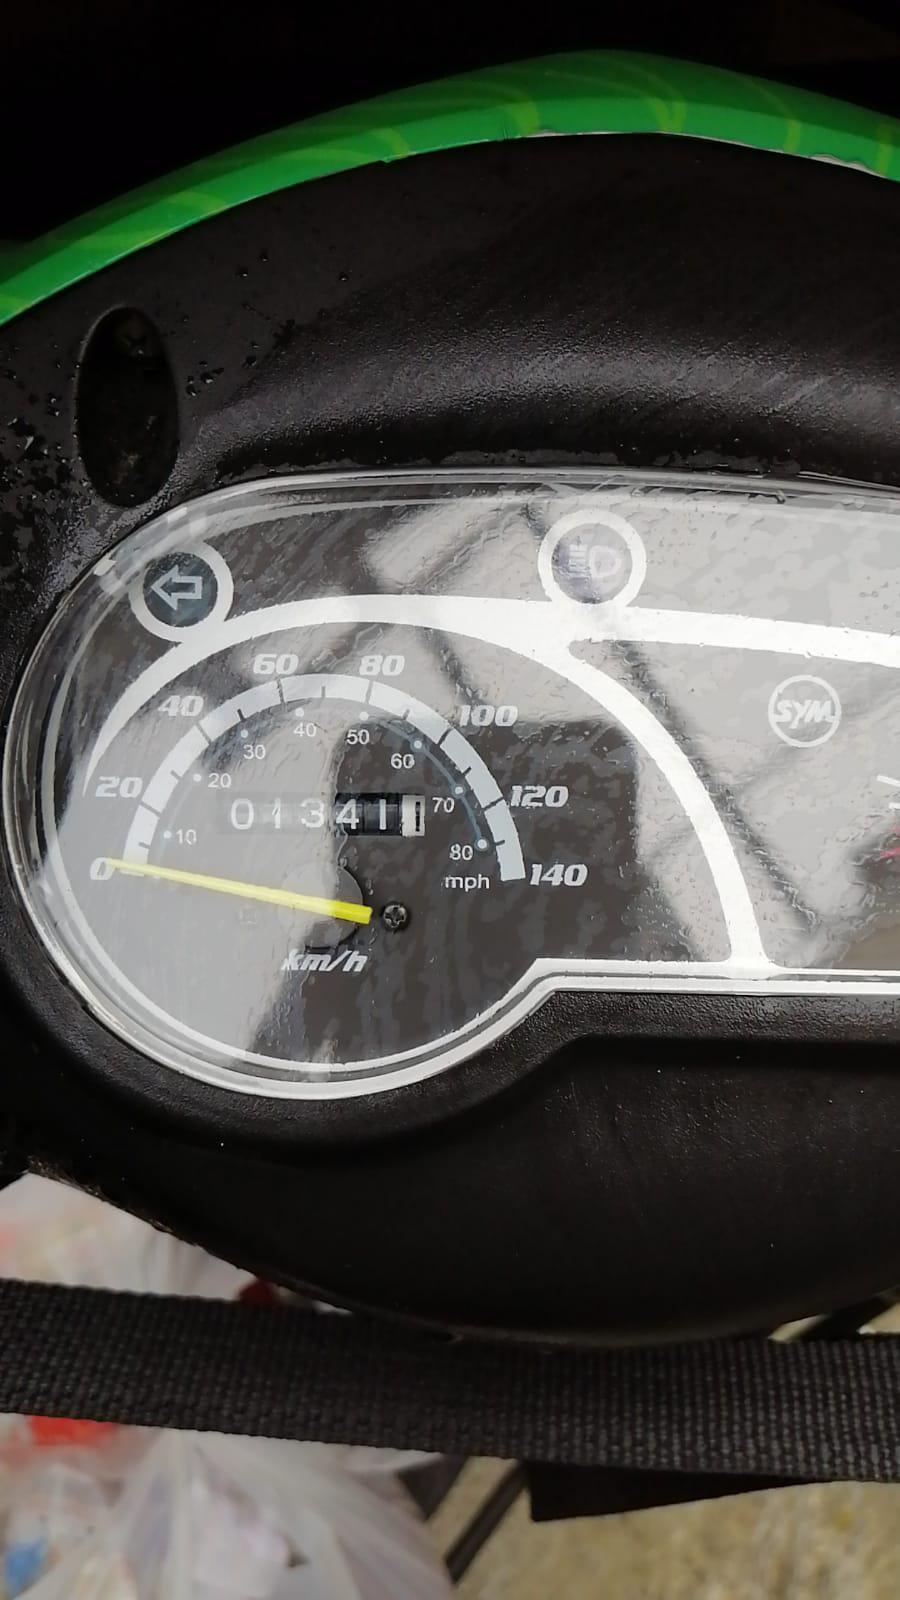0: (227, 795, 256, 832)
1: (407, 797, 427, 837), (269, 795, 288, 833), (374, 796, 389, 836)
3: (301, 793, 327, 831)
4: (335, 795, 362, 833)
odometer: (210, 789, 433, 842)
